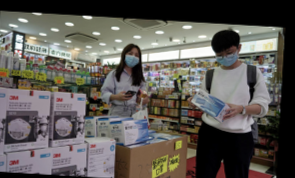with_mask: (214, 46, 239, 67), (123, 50, 140, 68)
